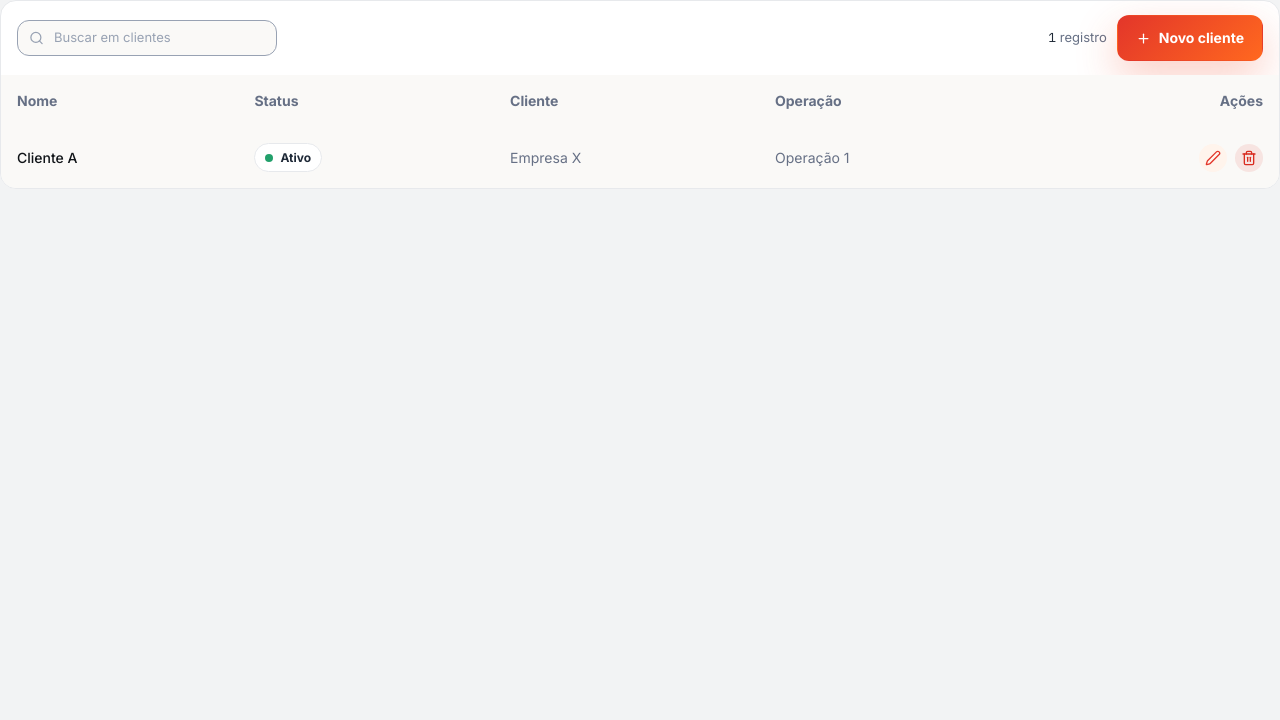
Test: CrudPage › limpa a operação ao trocar o cliente
Click the button named "Editar Cliente A": coordinates (1213, 158) x1=1199 y1=144 x2=1227 y2=172
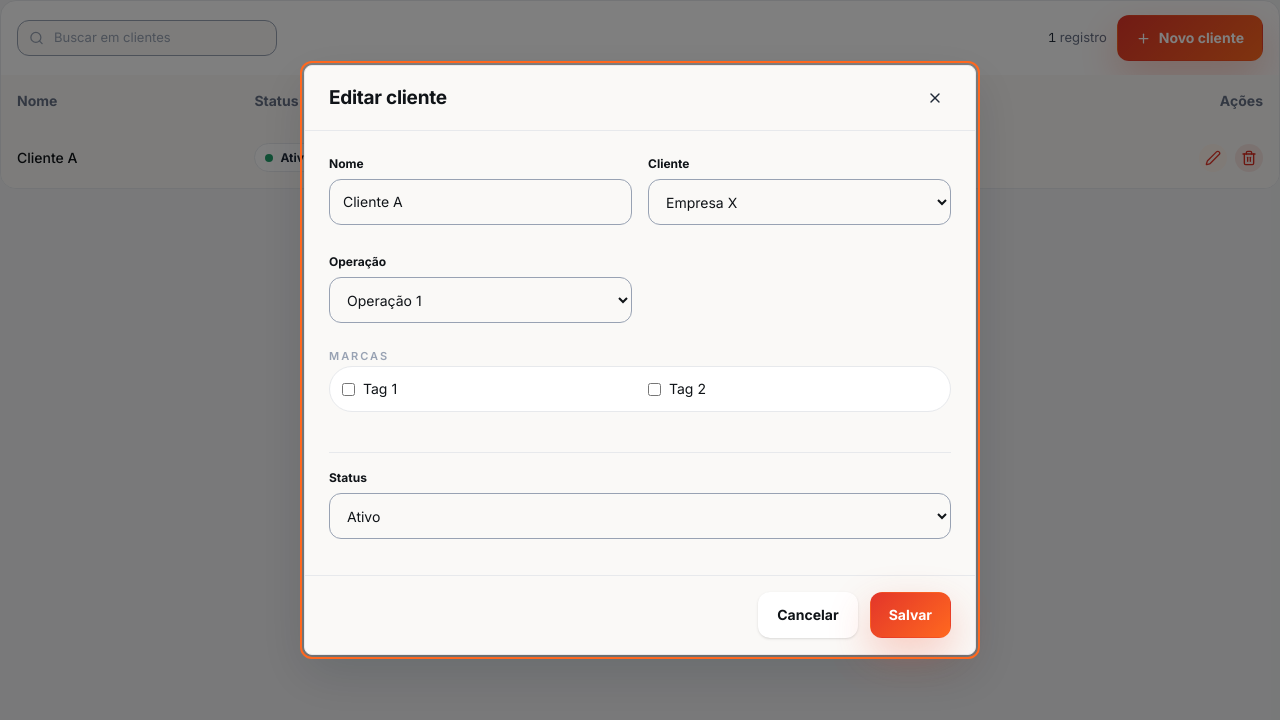
Result: the dropdown labelled "Operação" shows "Operação 1" at x1=329 y1=277 x2=632 y2=323
Select "Empresa Y" in the dropdown labelled "Cliente": coordinates (800, 202) x1=648 y1=179 x2=951 y2=225
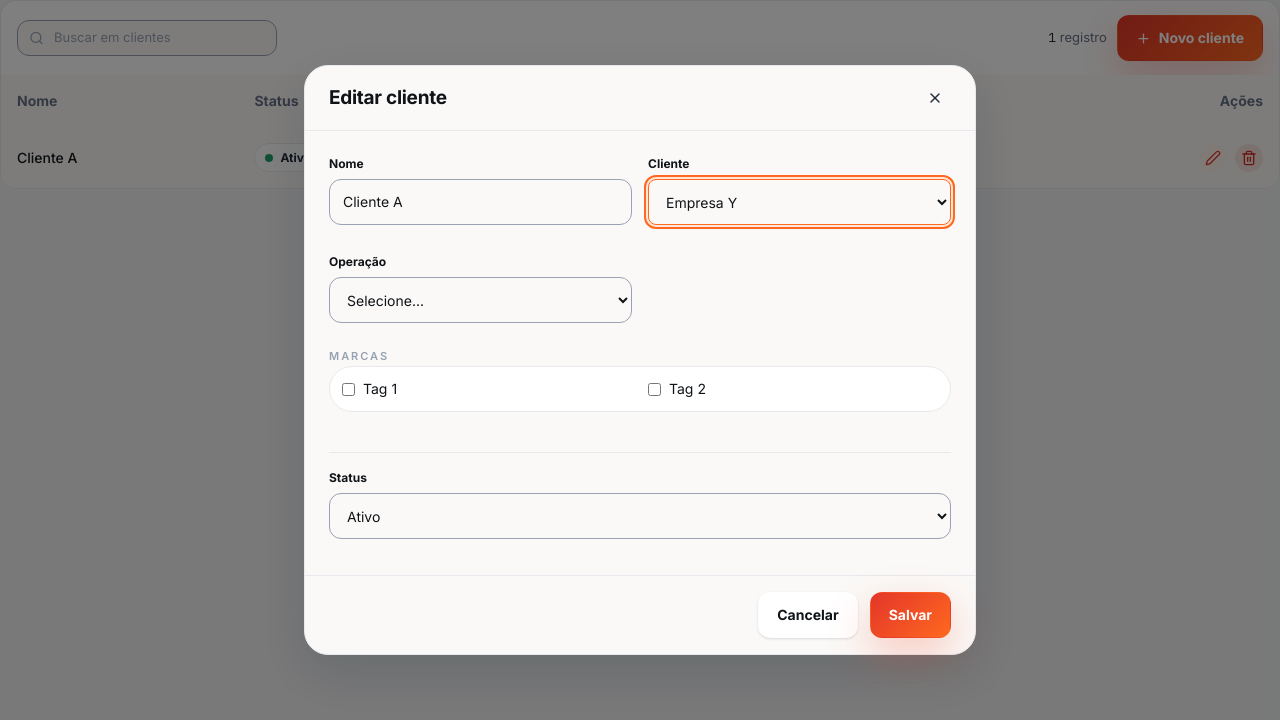
Result: the dropdown labelled "Operação" shows "Selecione..." at x1=329 y1=277 x2=632 y2=323
